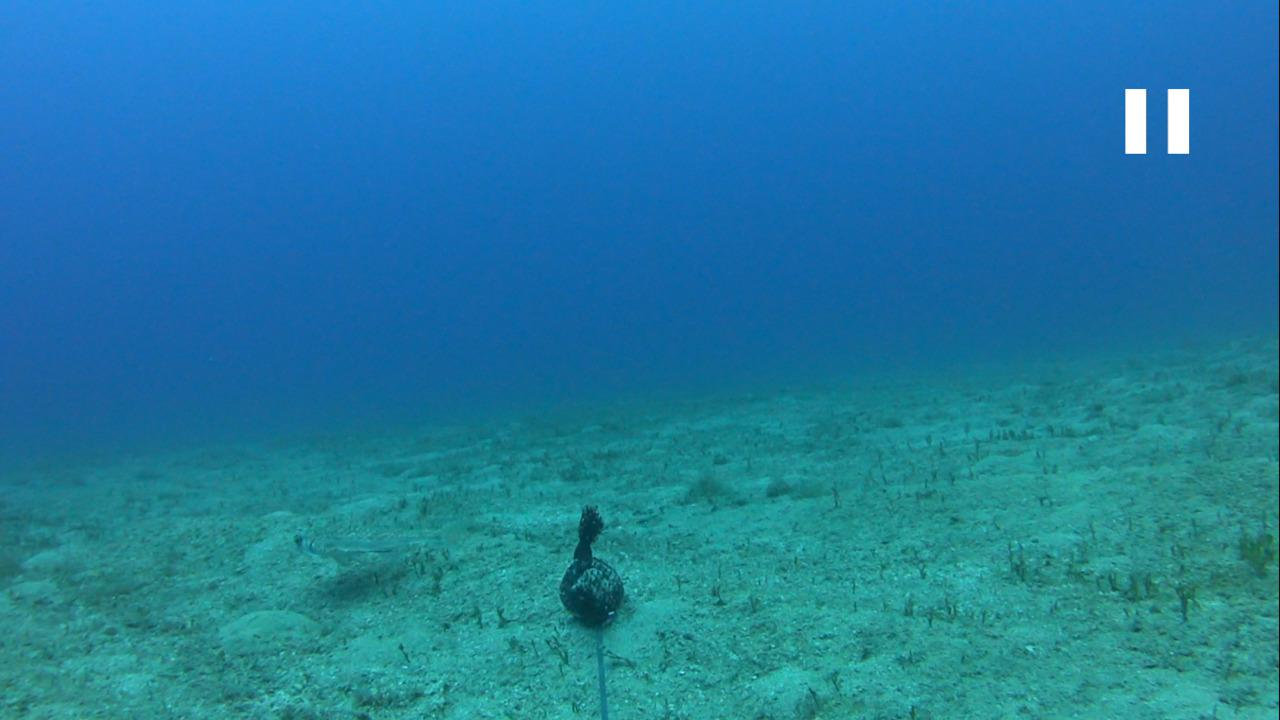dactylopterus: (287, 514, 481, 575)
